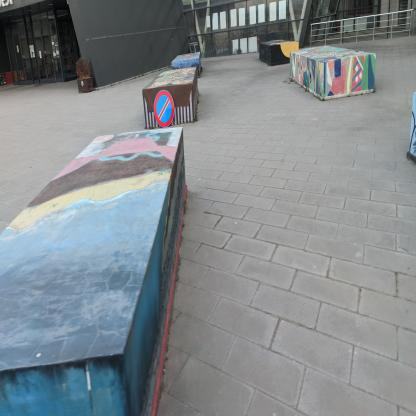No Waiting: (155, 91, 176, 129)
